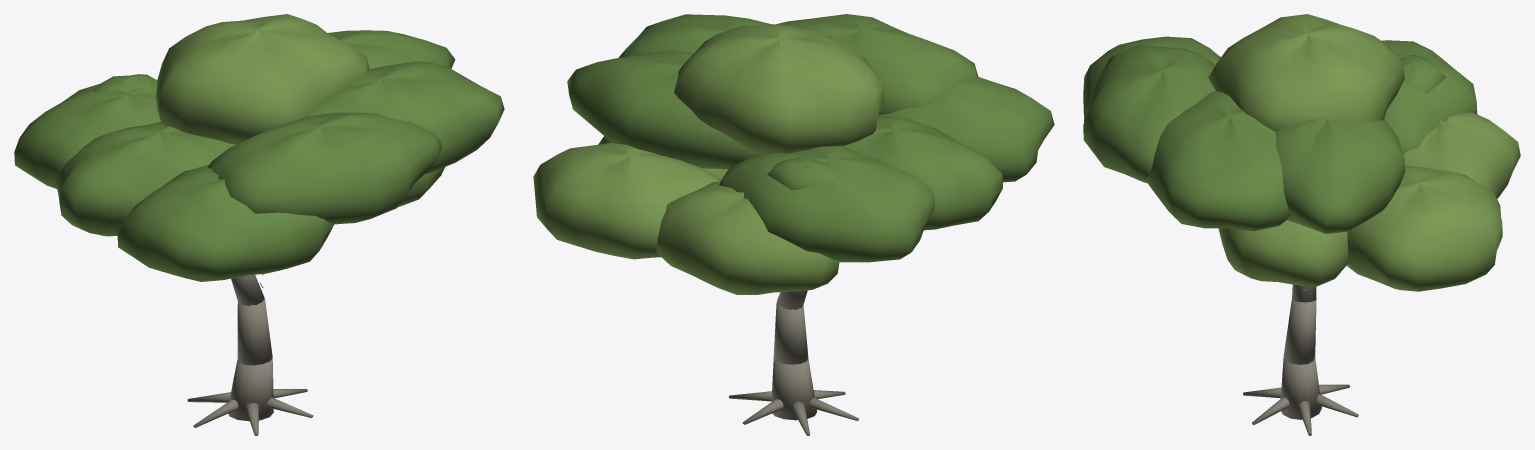
The model's file is beech_canopy_3.glb.
3 renders of one model, left to right at view 1: azimuth 30°, elevation 25°; view 2: azimuth 150°, elevation 25°; view 3: azimuth 270°, elevation 25°, orthographic. The views are drawn at different scales.
Parts seen in each view (by area): view 1: beech_canopy_3_painted_export; view 2: beech_canopy_3_painted_export; view 3: beech_canopy_3_painted_export.
Part boxes in pixels (bbox=[...]): beech_canopy_3_painted_export: bbox=[14, 14, 504, 435]; beech_canopy_3_painted_export: bbox=[533, 14, 1054, 435]; beech_canopy_3_painted_export: bbox=[1083, 14, 1520, 435].
Bounding box in the file's own units: 15.6 × 13.71 × 14.21.
